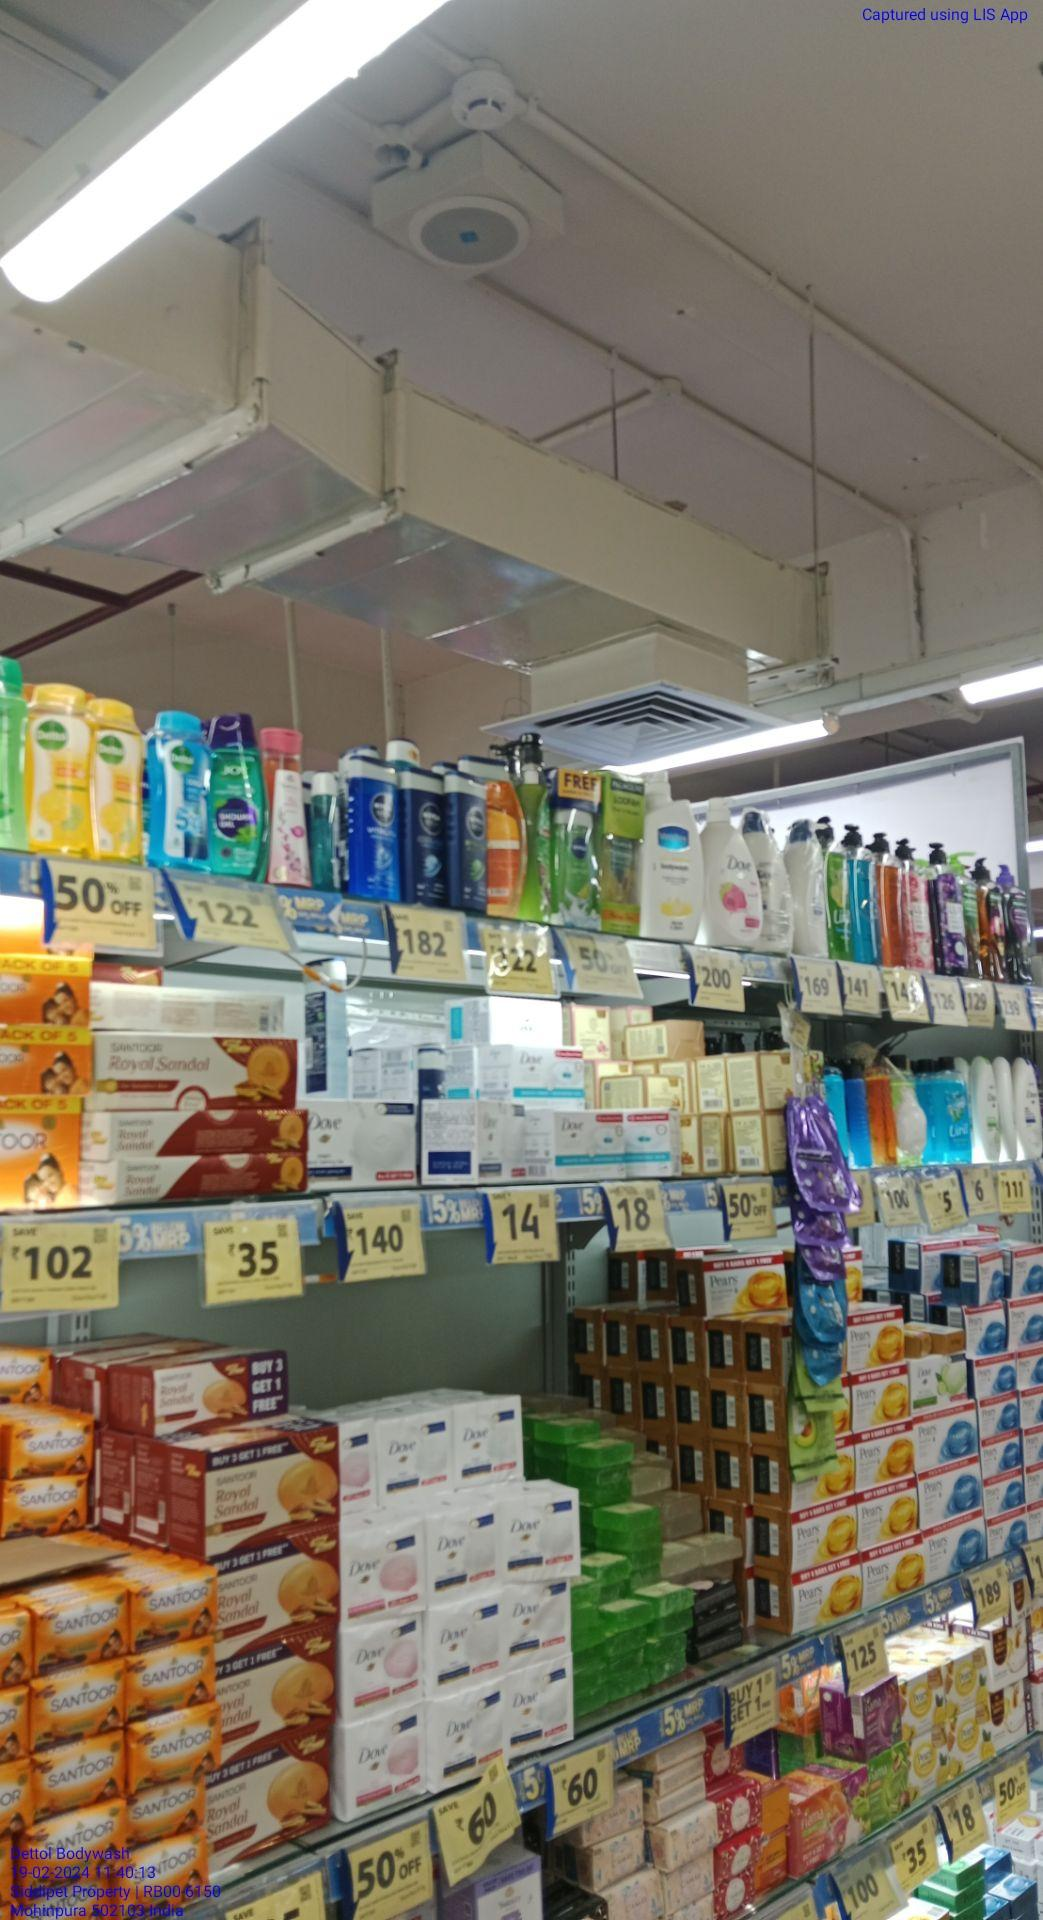Dettol_Bodywash_Cool: (155, 708, 213, 869)
Dettol_Bodywash_Refresh: (27, 679, 95, 857), (96, 699, 150, 860)
Joy_Shower_Gel_Mint_and_Eucalyptus_250ML: (217, 705, 267, 876)
